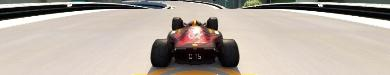Car: (149, 16, 239, 67)
Tree: (242, 0, 260, 7)
curve: (0, 2, 389, 73)
